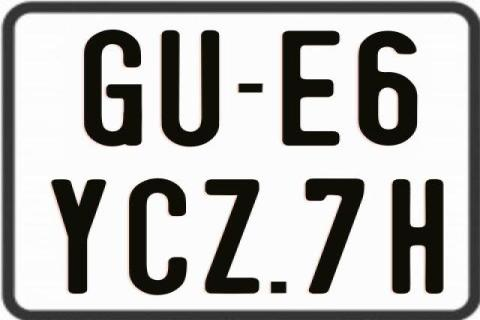0: (356, 29, 420, 145), (302, 177, 362, 297)
C: (128, 178, 190, 296)
E: (281, 30, 341, 150)
G: (84, 28, 145, 146)
H: (390, 180, 446, 296)
U: (161, 30, 222, 146)
Y: (50, 178, 109, 294)
Z: (206, 178, 260, 294)
